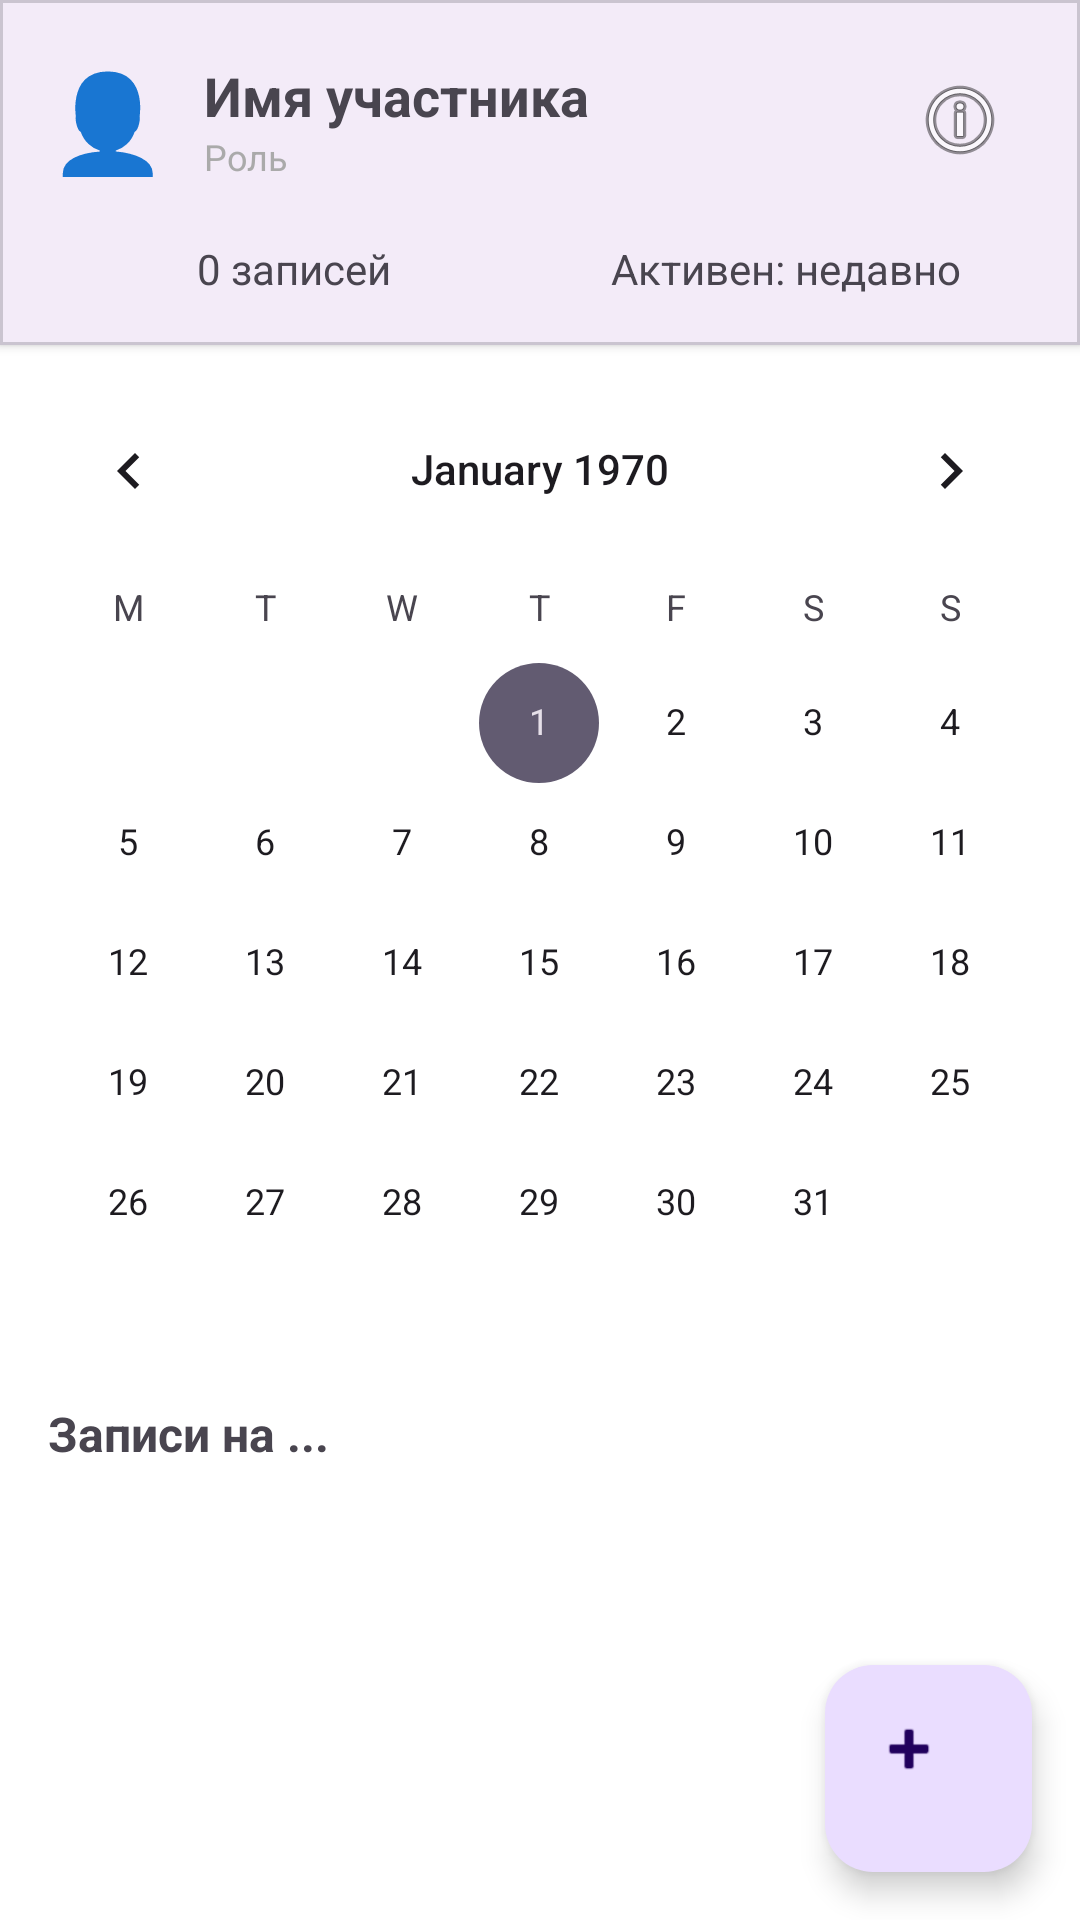

Icons on this 1080 x 1920 Android screen, each with its box as BBox(x1, y1, x2, y2):
Добавить запись участнику: BBox(825, 1665, 1032, 1872)
